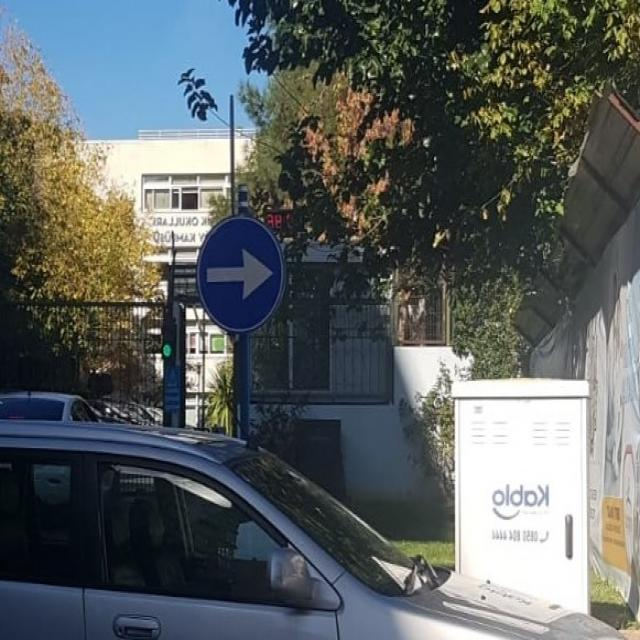Turn Right: (187, 217, 290, 333)
